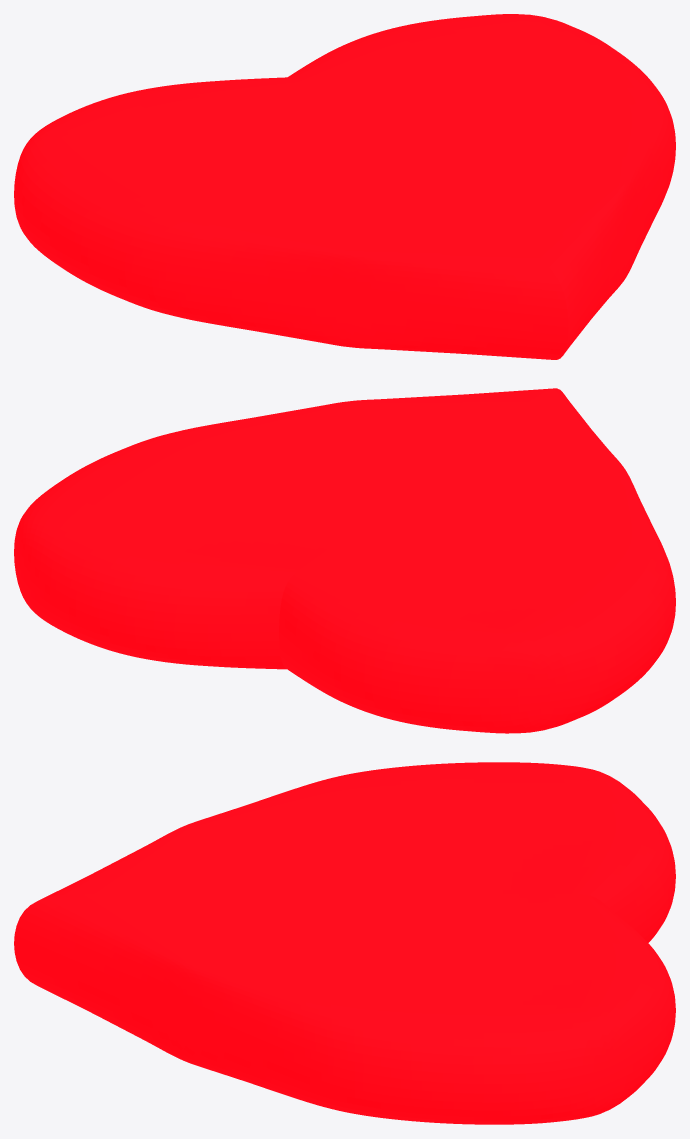
File: mai-heart.gltf
3 views of the same model, one above another, from view 1: azimuth 30°, elevation 25°; view 2: azimuth 150°, elevation 25°; view 3: azimuth 270°, elevation 25° (orthographic). The views are drawn at different scales.
Parts seen in each view (by area): view 1: Heart; view 2: Heart; view 3: Heart.
Part boxes in pixels (<box>): Heart: <box>14,14,675,359</box>; Heart: <box>14,388,675,733</box>; Heart: <box>14,762,675,1124</box>.
Size of the model in its own units: 32.9 by 5.07 by 30.64.
